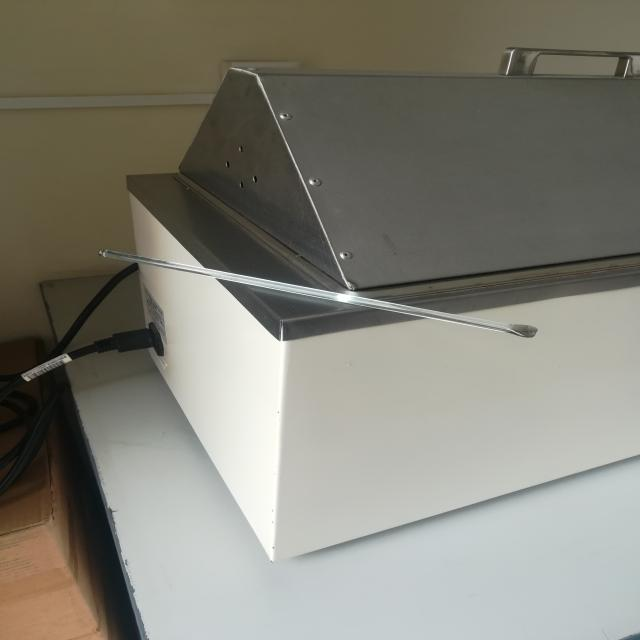Glass_Rod: (78, 228, 547, 370)
